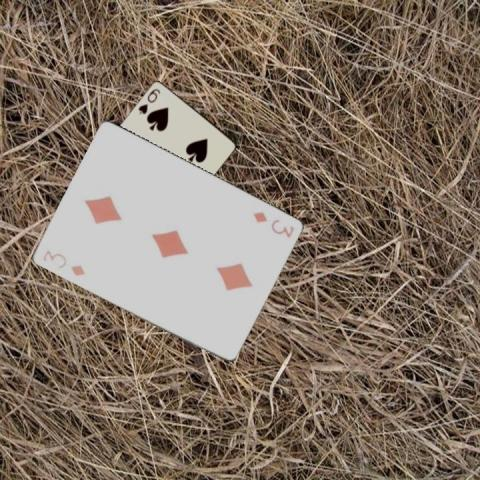3d: (39, 247, 86, 278), (250, 209, 296, 239)
6s: (135, 86, 162, 116)
